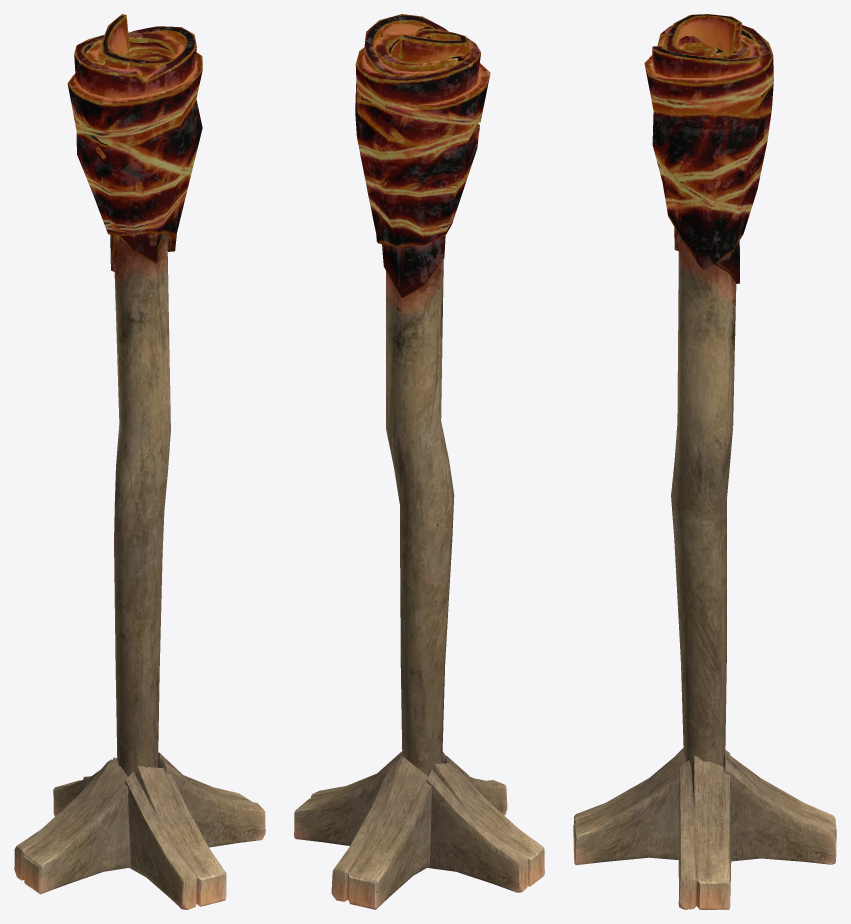
3 renders of one model, left to right at view 1: azimuth 30°, elevation 25°; view 2: azimuth 150°, elevation 25°; view 3: azimuth 270°, elevation 25°, orthographic.
Parts seen in each view (by area): view 1: SM_Standing_Torch_01v1_LOD0; view 2: SM_Standing_Torch_01v1_LOD0; view 3: SM_Standing_Torch_01v1_LOD0.
Boxes of the visible parts, x1,y1,x2,y2 form: SM_Standing_Torch_01v1_LOD0: [14, 14, 265, 909]; SM_Standing_Torch_01v1_LOD0: [294, 14, 544, 909]; SM_Standing_Torch_01v1_LOD0: [573, 14, 836, 909].
Size of the model in its own units: 0.4072 by 1.42 by 0.4072.
Materials: 2 (2 with a texture image).
